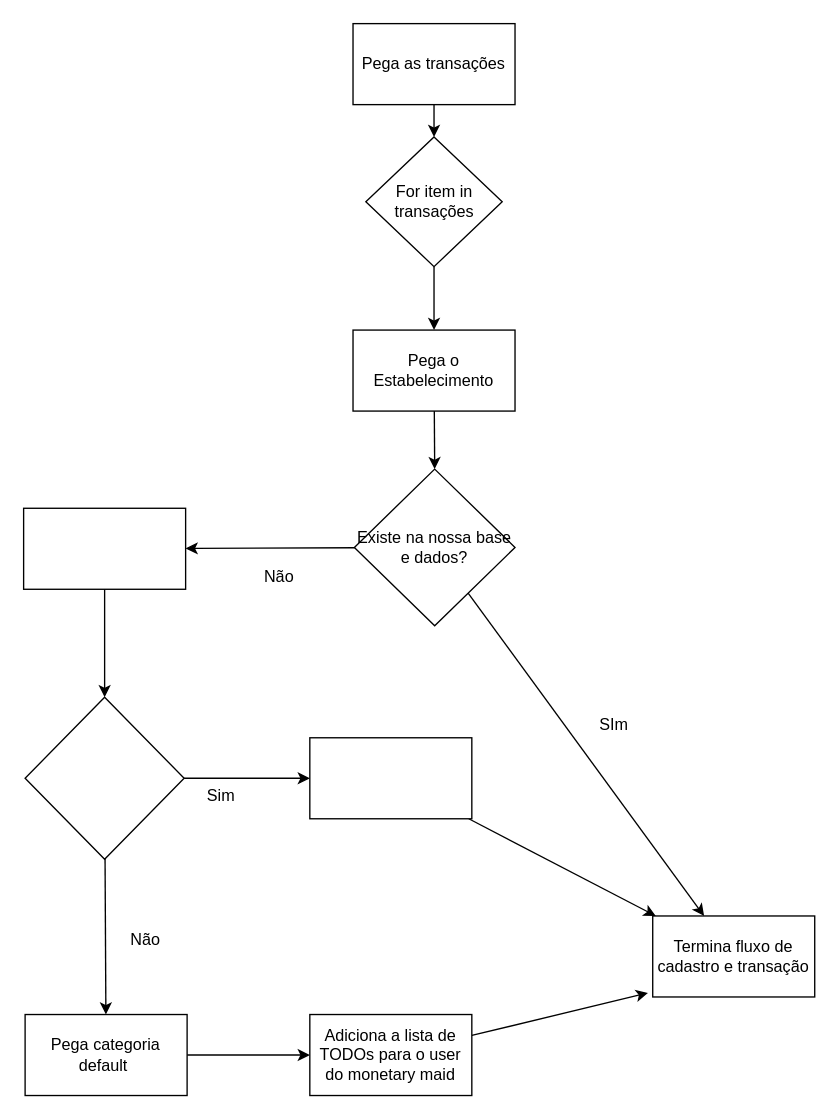
Image size: 838x1119. Some labels were removed from this diagram. Each missing label, with the box of its shape:
Busca informações: (22, 507, 186, 589)
Pega a categoria: (308, 736, 472, 819)
Tem algum inicativo de uso de alguma categoria?: (24, 696, 184, 859)
